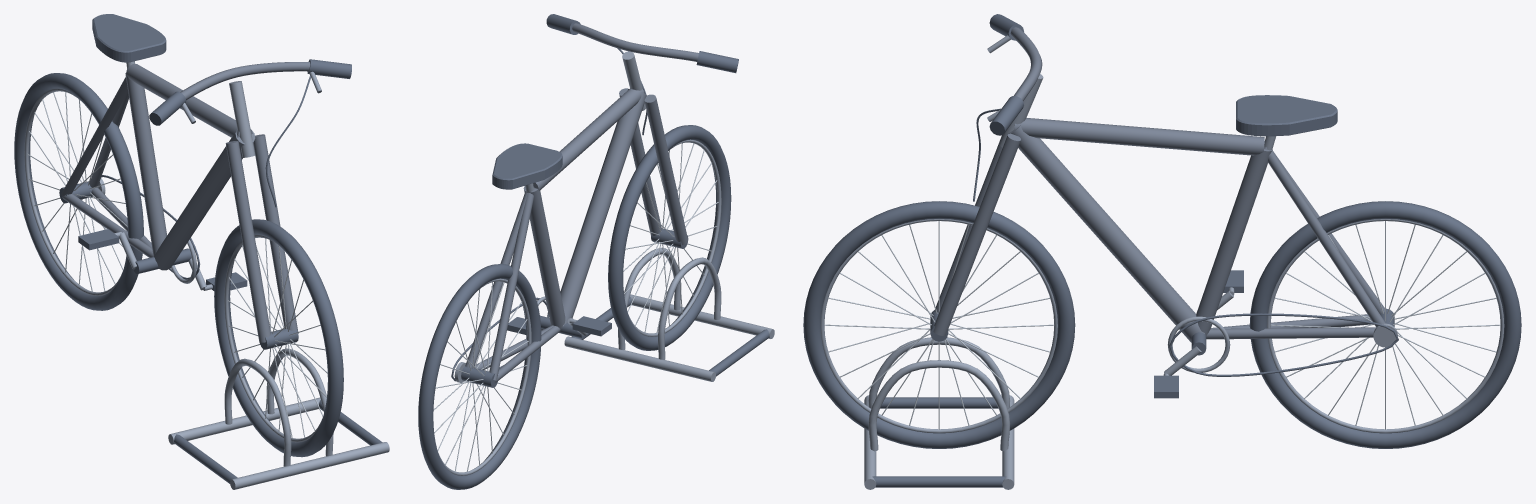
The model's file is 自行车＋停放架.glb.
The picture shows the model from 3 angles, left to right: view 1: azimuth 30°, elevation 25°; view 2: azimuth 150°, elevation 25°; view 3: azimuth 270°, elevation 25°; orthographic projection. The views are drawn at different scales.
Parts seen in each view (by area): view 1: bicycle-rack-dark, bicycle-rack-frame, bicycle-rack-accent, bicycle-rack-light; view 2: bicycle-rack-dark, bicycle-rack-frame, bicycle-rack-accent, bicycle-rack-light; view 3: bicycle-rack-dark, bicycle-rack-frame, bicycle-rack-accent, bicycle-rack-light.
Part boxes in pixels (x1=…): bicycle-rack-dark: x1=14, y1=14, x2=382, y2=483; bicycle-rack-frame: x1=61, y1=62, x2=309, y2=342; bicycle-rack-accent: x1=24, y1=61, x2=389, y2=489; bicycle-rack-light: x1=27, y1=92, x2=327, y2=437; bicycle-rack-dark: x1=418, y1=14, x2=769, y2=489; bicycle-rack-frame: x1=465, y1=23, x2=698, y2=383; bicycle-rack-accent: x1=438, y1=51, x2=774, y2=475; bicycle-rack-light: x1=433, y1=143, x2=718, y2=471; bicycle-rack-dark: x1=803, y1=14, x2=1521, y2=487; bicycle-rack-frame: x1=933, y1=27, x2=1386, y2=342; bicycle-rack-accent: x1=820, y1=35, x2=1504, y2=489; bicycle-rack-light: x1=824, y1=221, x2=1500, y2=429.
Bounding box in the file's own units: 0.6385 × 1.06 × 1.77.
